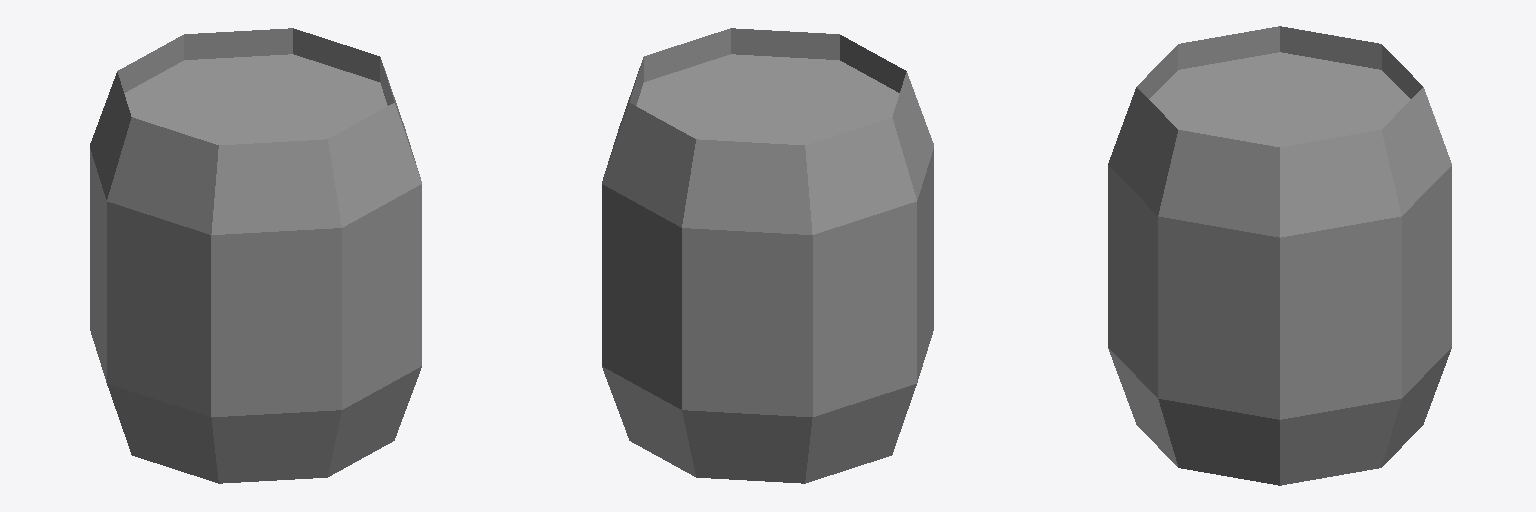
The picture shows the model from 3 angles: view 1: azimuth 30°, elevation 25°; view 2: azimuth 150°, elevation 25°; view 3: azimuth 270°, elevation 25°; orthographic projection.
Parts seen in each view (by area): view 1: Barrel; view 2: Barrel; view 3: Barrel.
Part boxes in pixels (x1,y1,x2,y2): Barrel: (90,28,421,483); Barrel: (602,28,933,483); Barrel: (1108,26,1451,485).
Size of the model in its own units: 0.96 by 1.04 by 0.96.